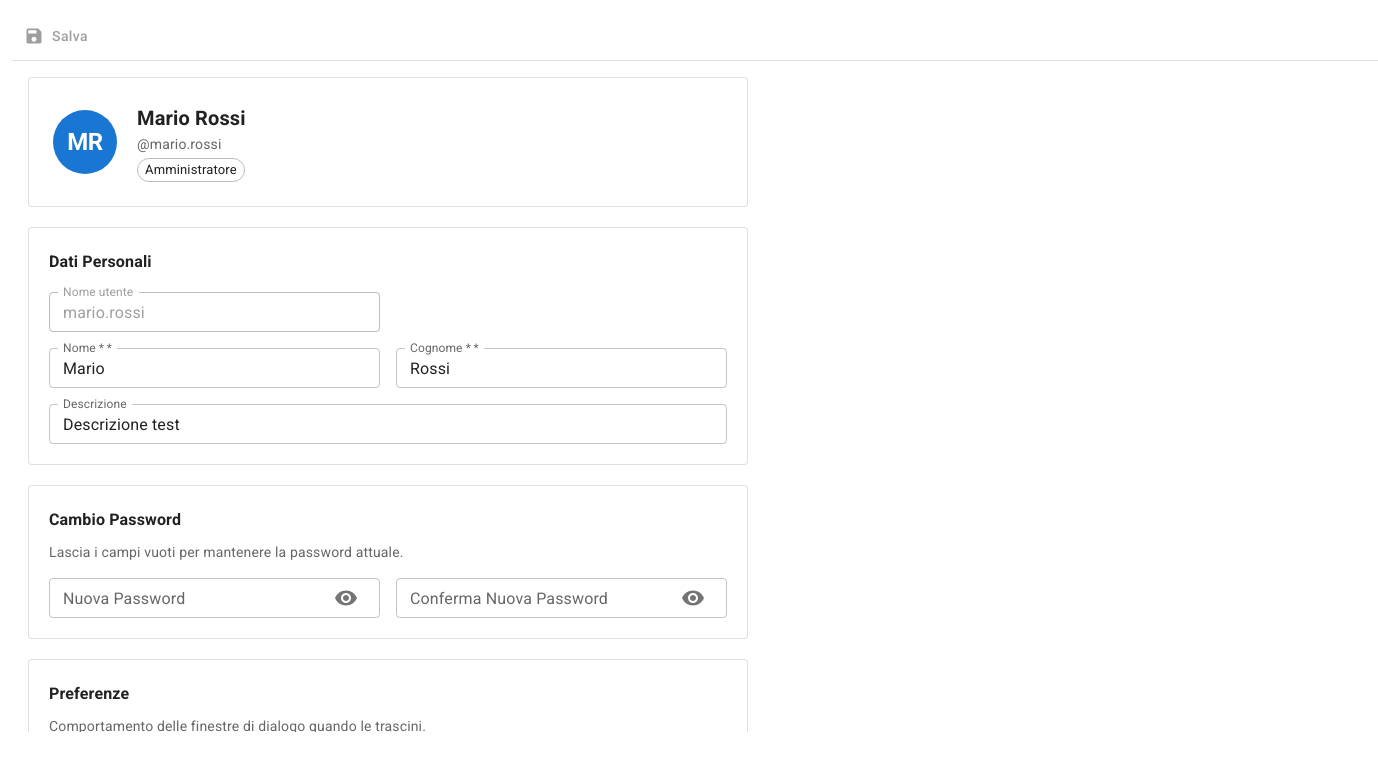
ProfilePage › deve mostrare errore di validazione per nome vuoto
The width and height of the screenshot is (1378, 780).
Clear the field showing "Mario" at (214, 368), box 49,348 -> 380,388
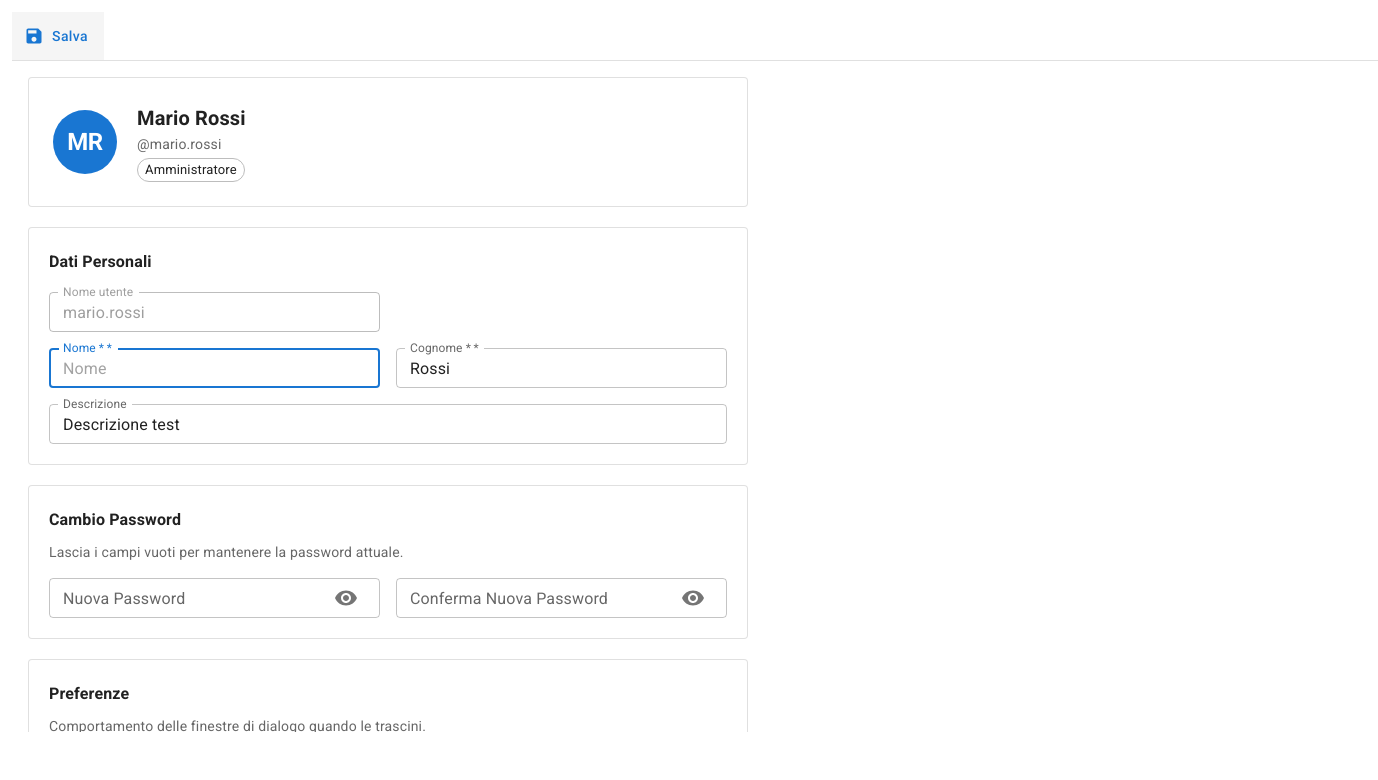
Press Tab
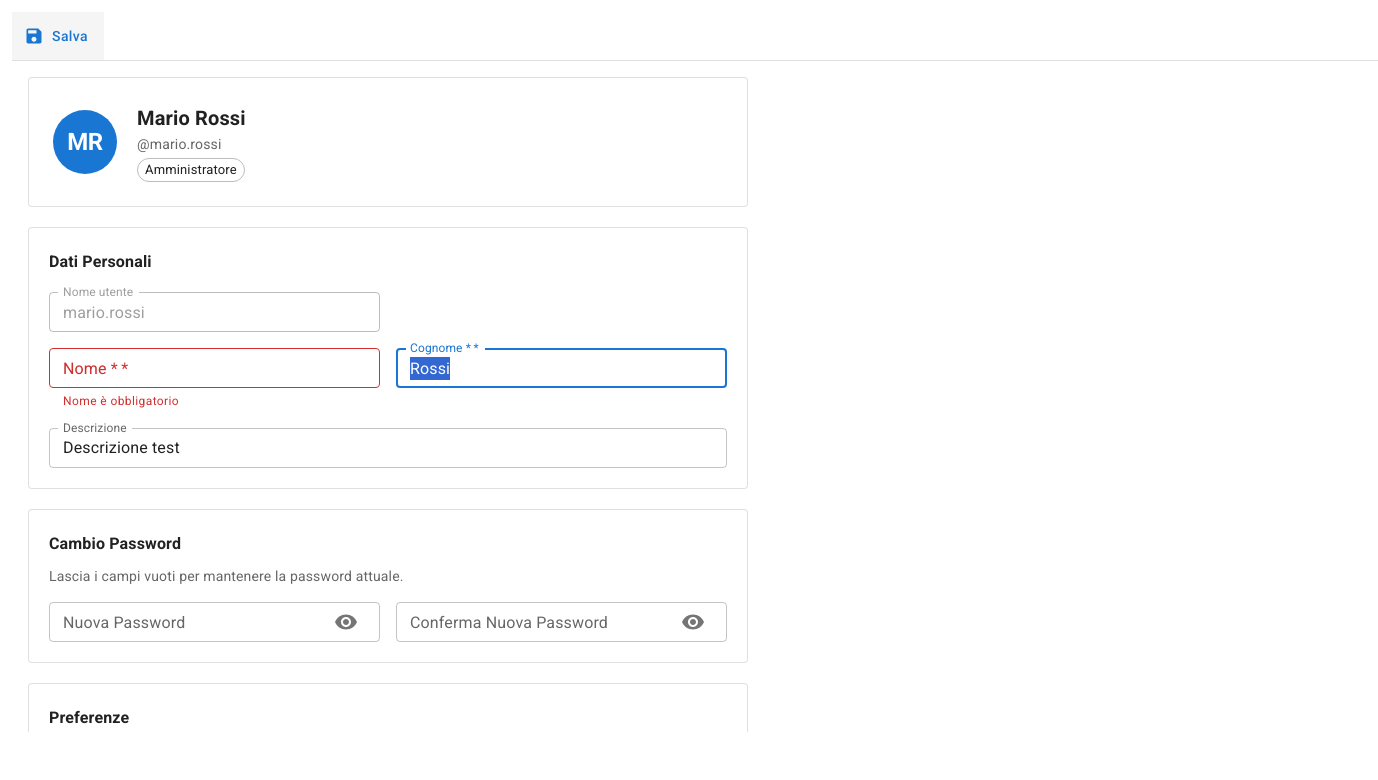
expect the text "Nome è obbligatorio" is shown: met, box 63,394 -> 179,408
